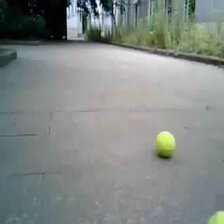tennis: (155, 132, 175, 158)
